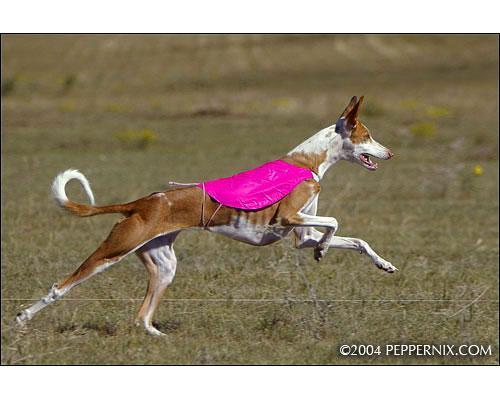Ibizan_hound: (13, 91, 397, 339)
